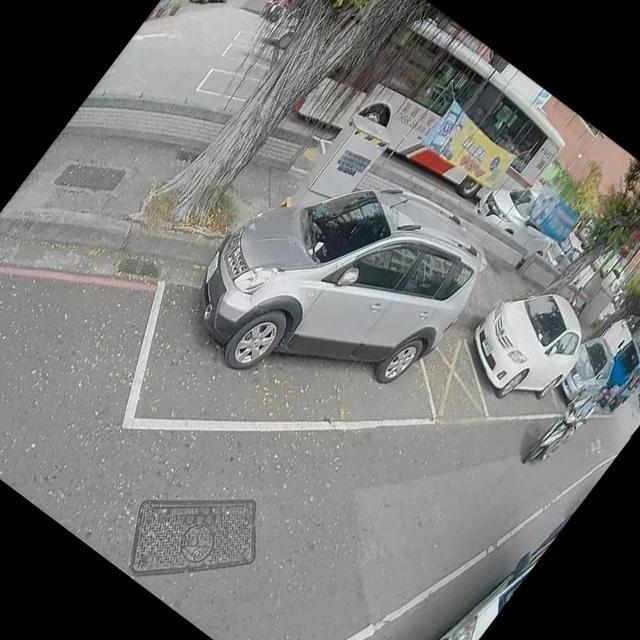person: (530, 376, 609, 469), (262, 0, 298, 23)
